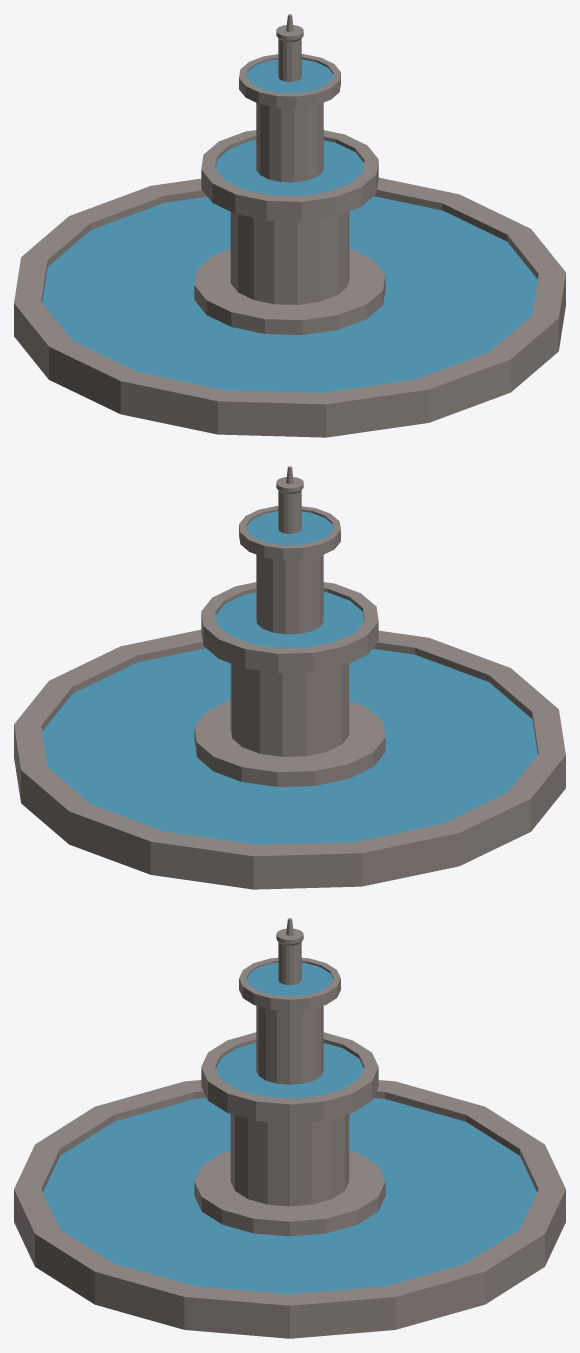
File: Fountain_01.fbx
3 views of the same model, one above another, from view 1: azimuth 30°, elevation 25°; view 2: azimuth 150°, elevation 25°; view 3: azimuth 270°, elevation 25° (orthographic).
Visible parts, largest first — view 1: Fountain_01; view 2: Fountain_01; view 3: Fountain_01.
Part boxes in pixels (<box>): Fountain_01: <box>14,14,565,437</box>; Fountain_01: <box>14,466,565,889</box>; Fountain_01: <box>14,918,565,1338</box>.
Bounding box in the file's own units: 11.91 × 7.21 × 11.91.
